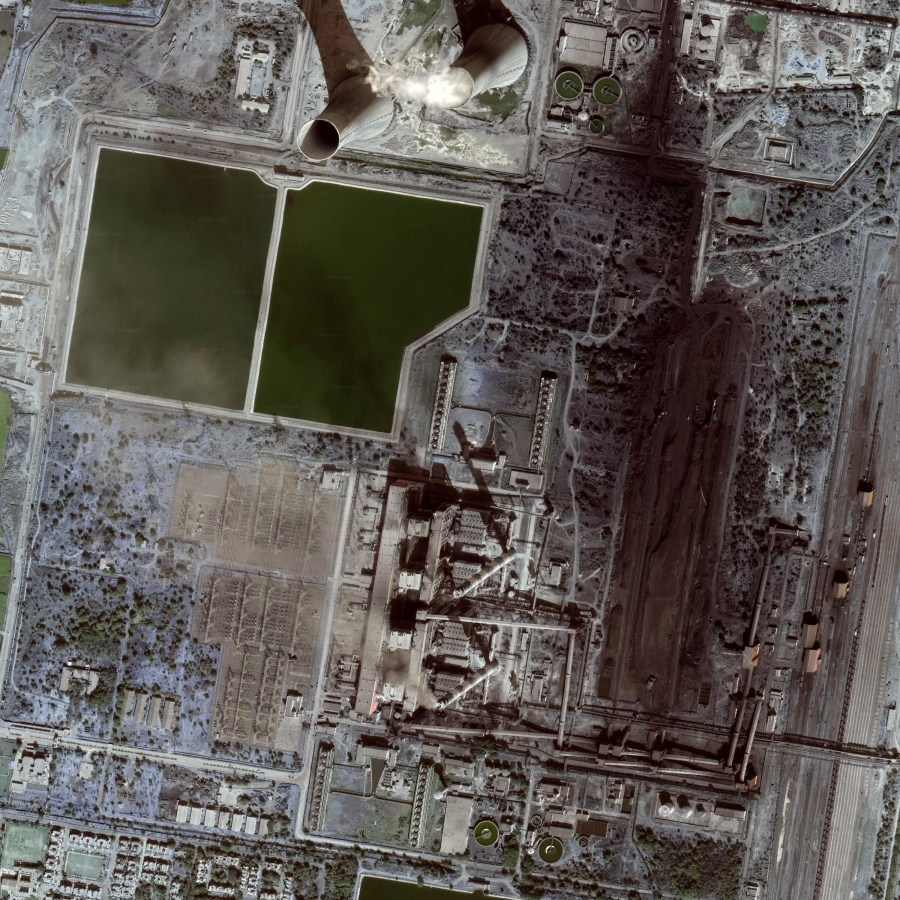PowerPlant: (365, 274, 808, 782), (52, 143, 490, 451)
